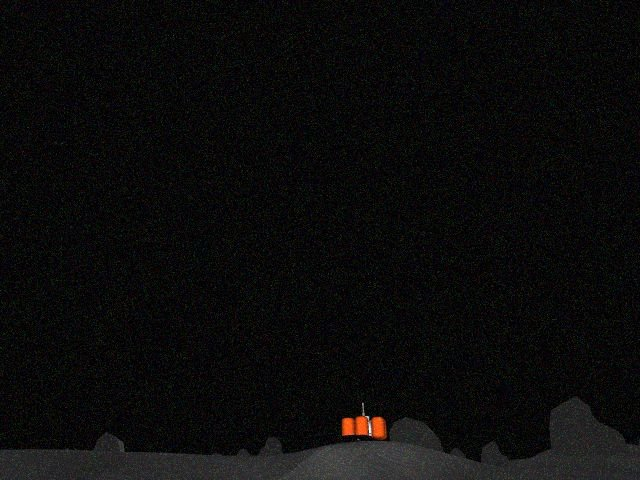homebase: (326, 393, 402, 470)
